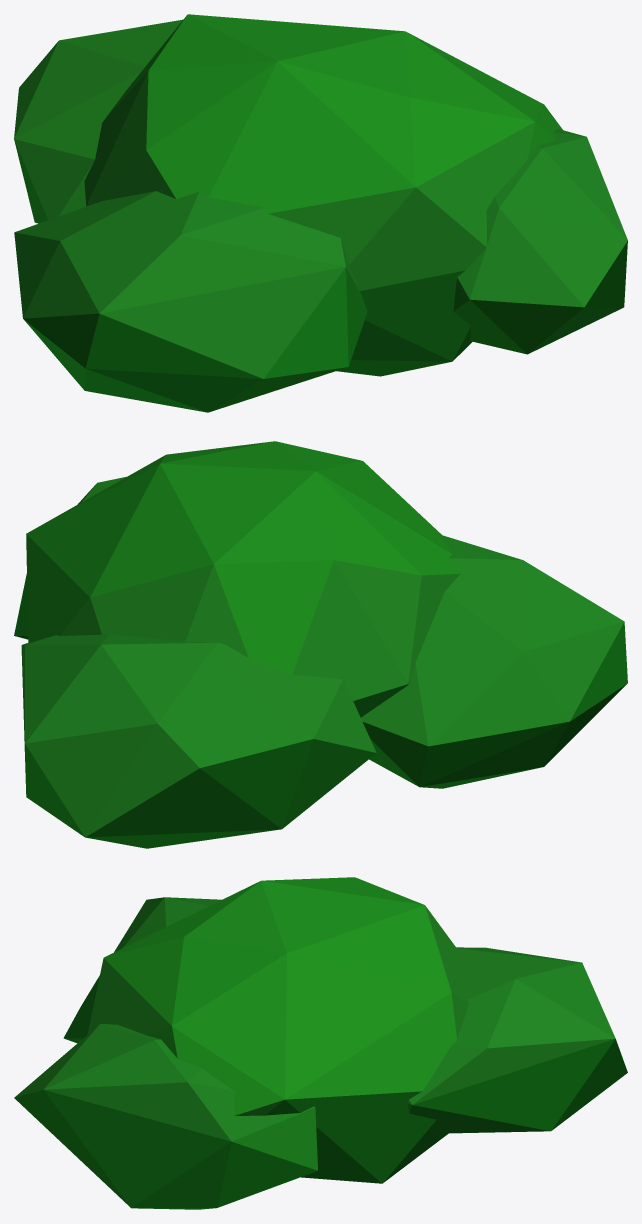
File: çalı.fbx
3 views of the same model, one above another, from view 1: azimuth 30°, elevation 25°; view 2: azimuth 150°, elevation 25°; view 3: azimuth 270°, elevation 25° (orthographic). The views are drawn at different scales.
Visible parts, largest first — view 1: Icosphere.002; view 2: Icosphere.002; view 3: Icosphere.002.
Part boxes in pixels (x1,y1,x2,y2): Icosphere.002: (14, 14, 627, 412); Icosphere.002: (14, 441, 627, 848); Icosphere.002: (14, 877, 627, 1209).
Bounding box in the file's own units: 272 × 139 × 308.
